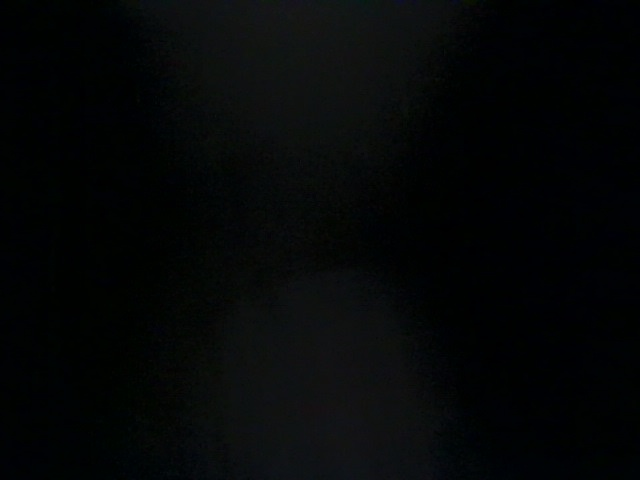YHLJ: (135, 161, 364, 257)
